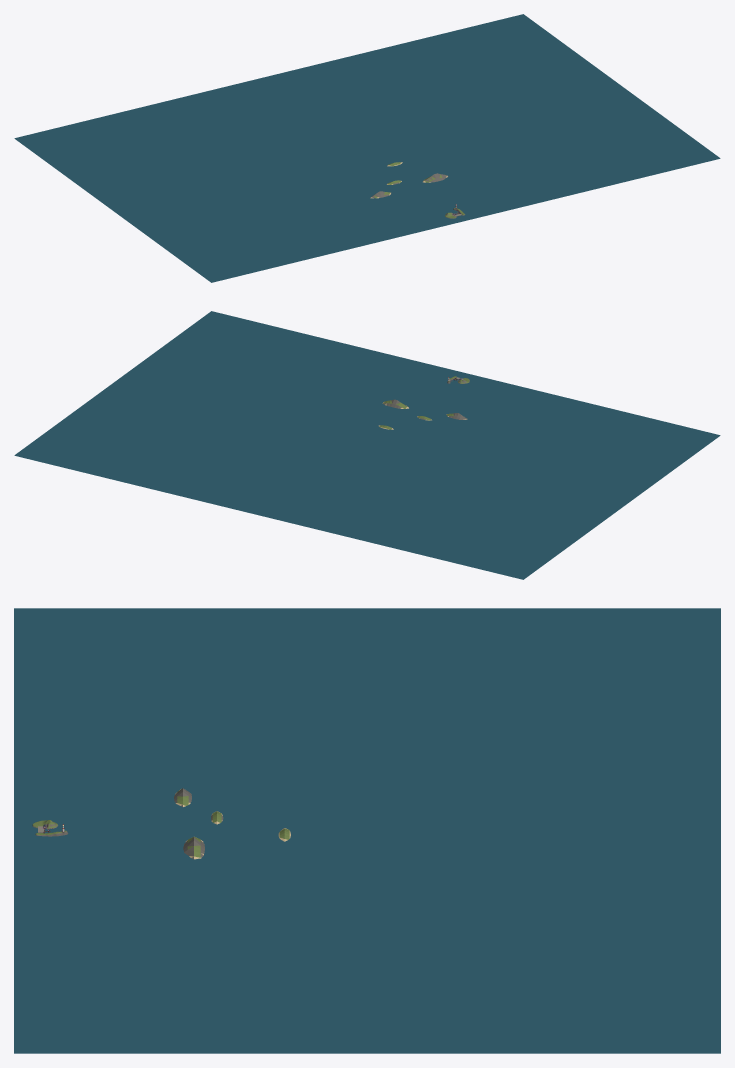
Rendered from harbor_hp.glb.
The picture shows the model from 3 angles, top to bottom: view 1: azimuth 30°, elevation 25°; view 2: azimuth 150°, elevation 25°; view 3: azimuth 270°, elevation 25°; orthographic projection. The views are drawn at different scales.
Parts seen in each view (by area): view 1: Sea; view 2: Sea; view 3: Sea, IslandsFar.
Boxes of the visible parts, x1=… form: Sea: x1=14, y1=14, x2=720, y2=282; Sea: x1=14, y1=311, x2=720, y2=579; Sea: x1=14, y1=608, x2=720, y2=1053; IslandsFar: x1=174, y1=788, x2=290, y2=859.
Bounding box in the file's own units: 1400 × 18.2 × 940.
